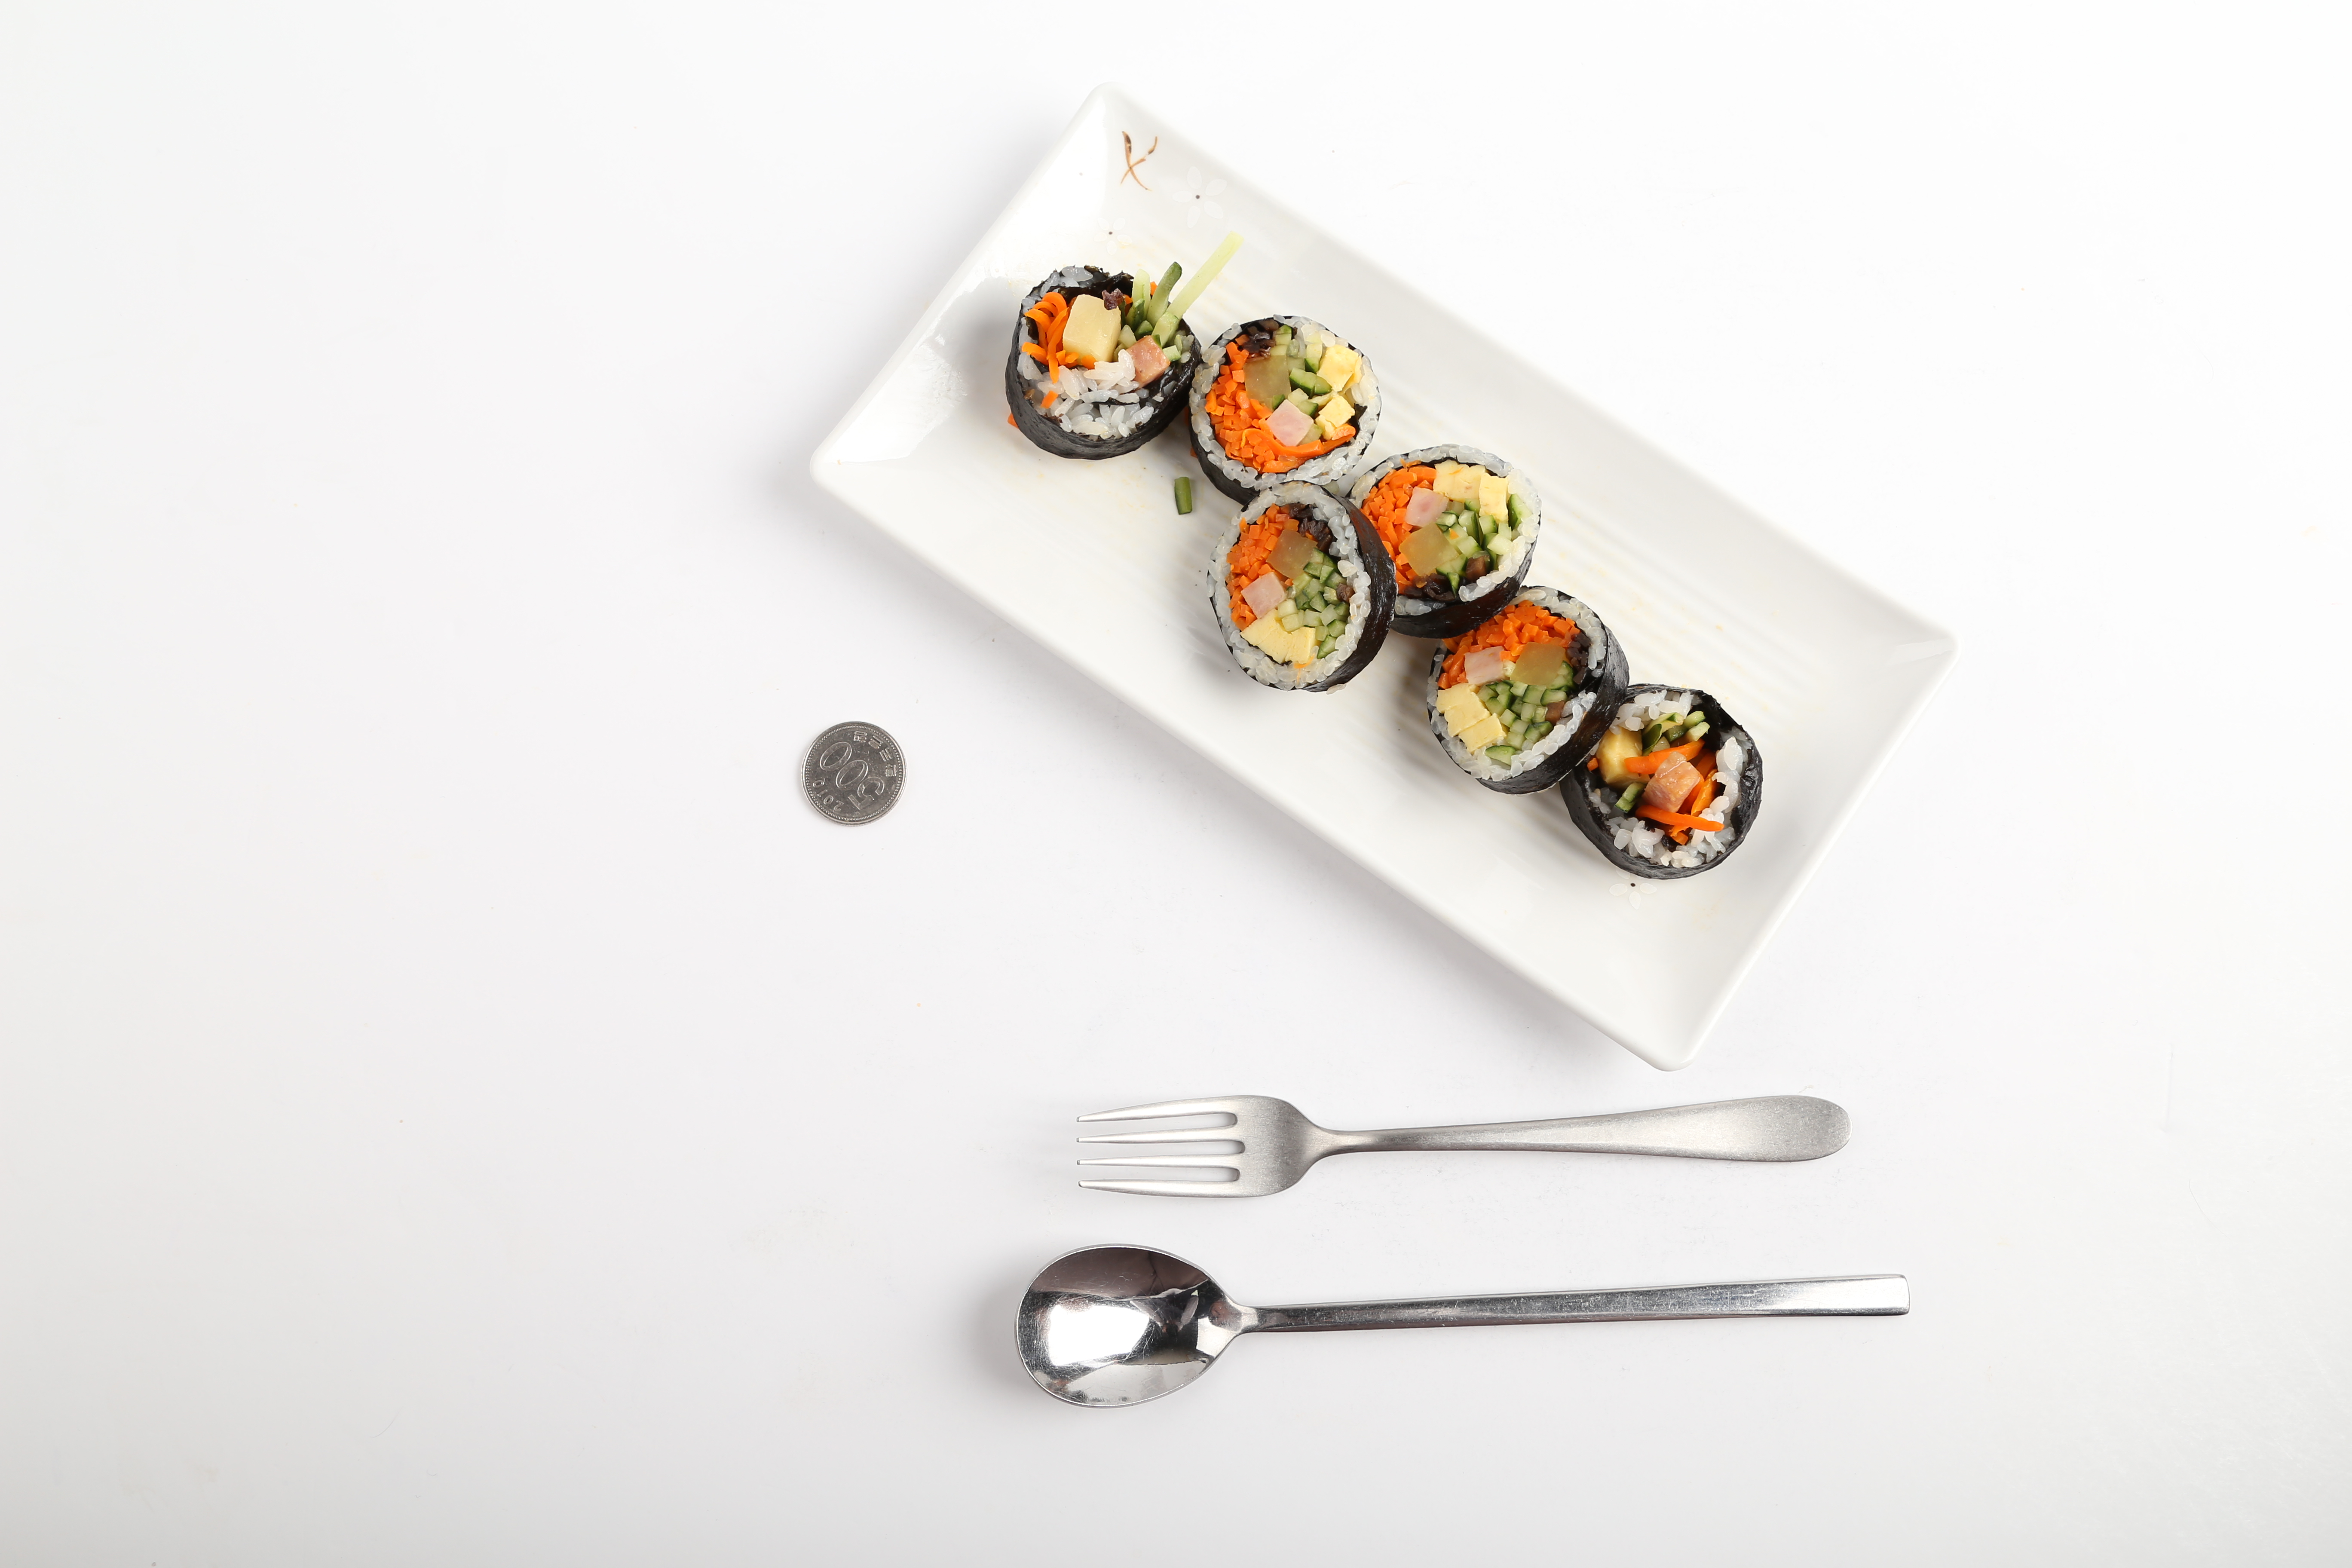dish: (817, 79, 1962, 1071)
ref_coin: (794, 710, 905, 829)
ref_fork: (1069, 1090, 1375, 1202)
ref_spoon: (1008, 1237, 1297, 1412)
김밥: (1003, 257, 1767, 880)
